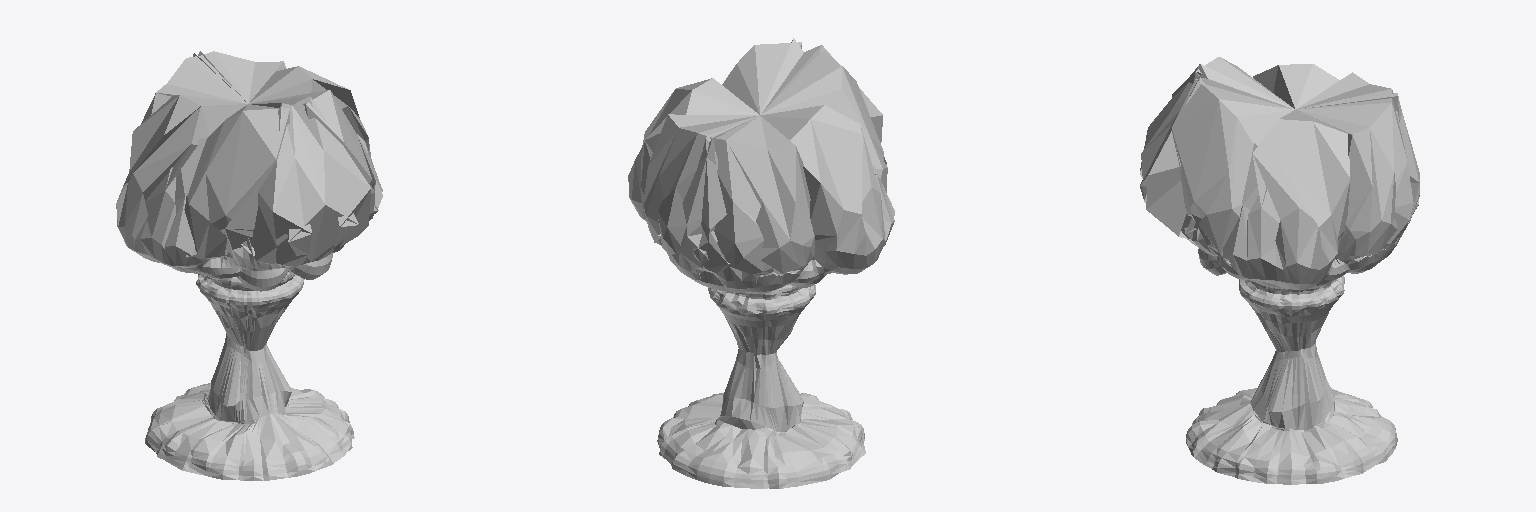
File: explosion.obj
3 renders of one model, left to right at view 1: azimuth 30°, elevation 25°; view 2: azimuth 150°, elevation 25°; view 3: azimuth 270°, elevation 25°, orthographic.
Visible parts, largest first — view 1: Plane; view 2: Plane; view 3: Plane.
Boxes of the visible parts, x1=… form: Plane: x1=116, y1=51, x2=382, y2=480; Plane: x1=628, y1=38, x2=894, y2=488; Plane: x1=1140, y1=57, x2=1419, y2=484.
Size of the model in its own units: 0.0274 by 0.0394 by 0.027.